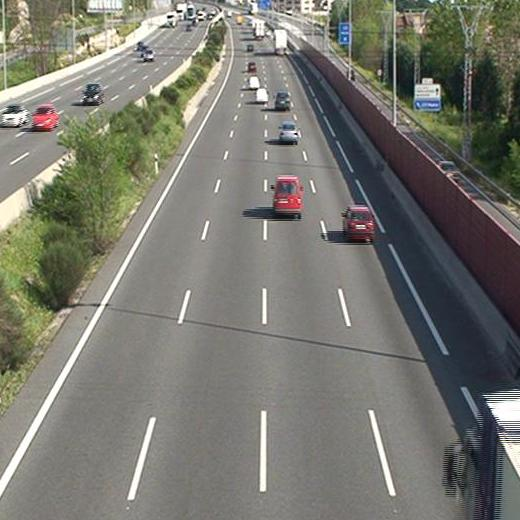car: (344, 206, 373, 240), (279, 121, 298, 141), (275, 92, 289, 108), (255, 87, 268, 102), (249, 76, 260, 88), (247, 62, 255, 70)
truck: (274, 29, 287, 53)
van: (272, 176, 302, 214)
